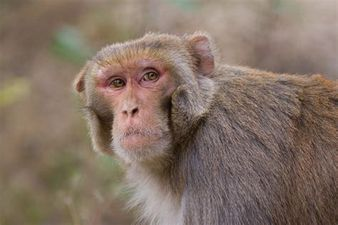monkey: (37, 30, 338, 216)
